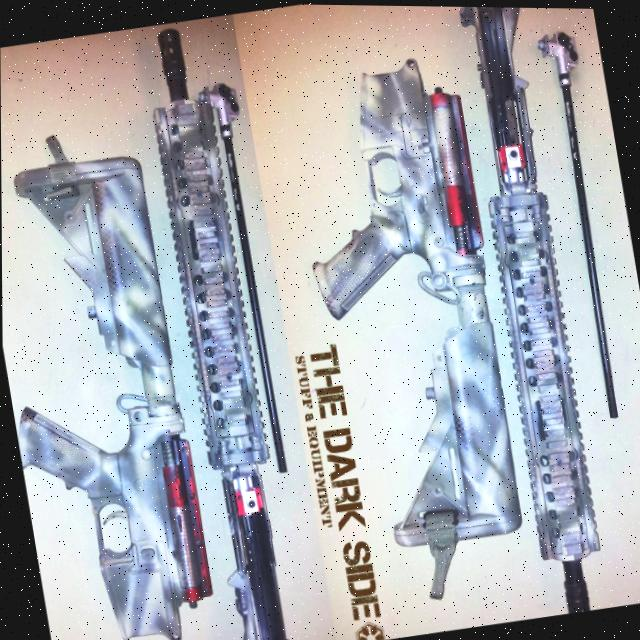firearm: (281, 51, 527, 554), (1, 148, 229, 640), (132, 23, 310, 640), (452, 5, 613, 615)
